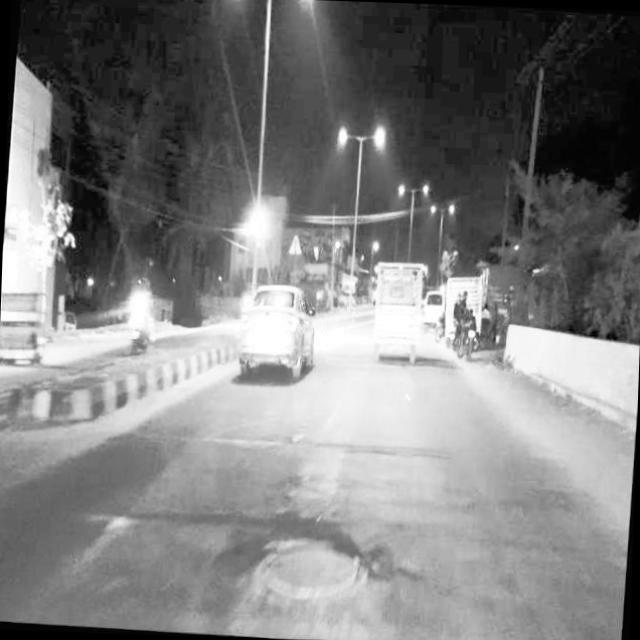Car: (236, 278, 319, 378)
Pothole: (250, 512, 368, 610)
